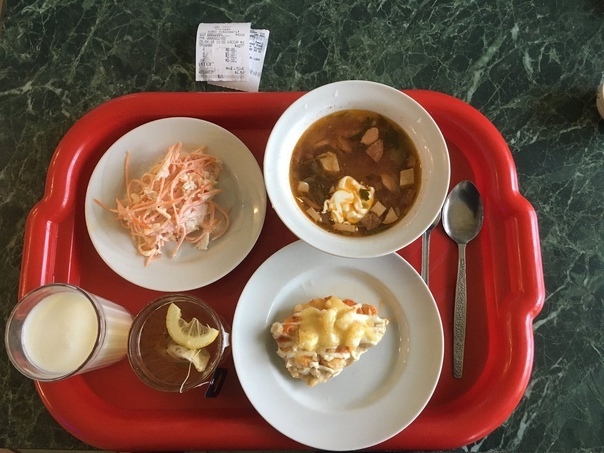bowl: (263, 80, 452, 259)
cutlery: (442, 179, 485, 390), (420, 231, 431, 286)
drink: (4, 283, 131, 384), (128, 292, 229, 400)
plate: (231, 239, 445, 450), (82, 114, 267, 292)
